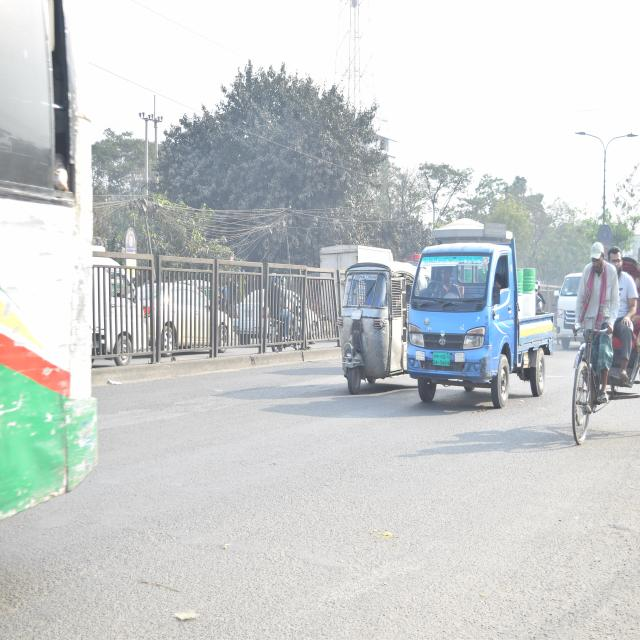bus: (0, 0, 109, 528)
car: (150, 276, 238, 363)
microbus: (554, 263, 583, 351)
pickup-van: (405, 217, 557, 415)
